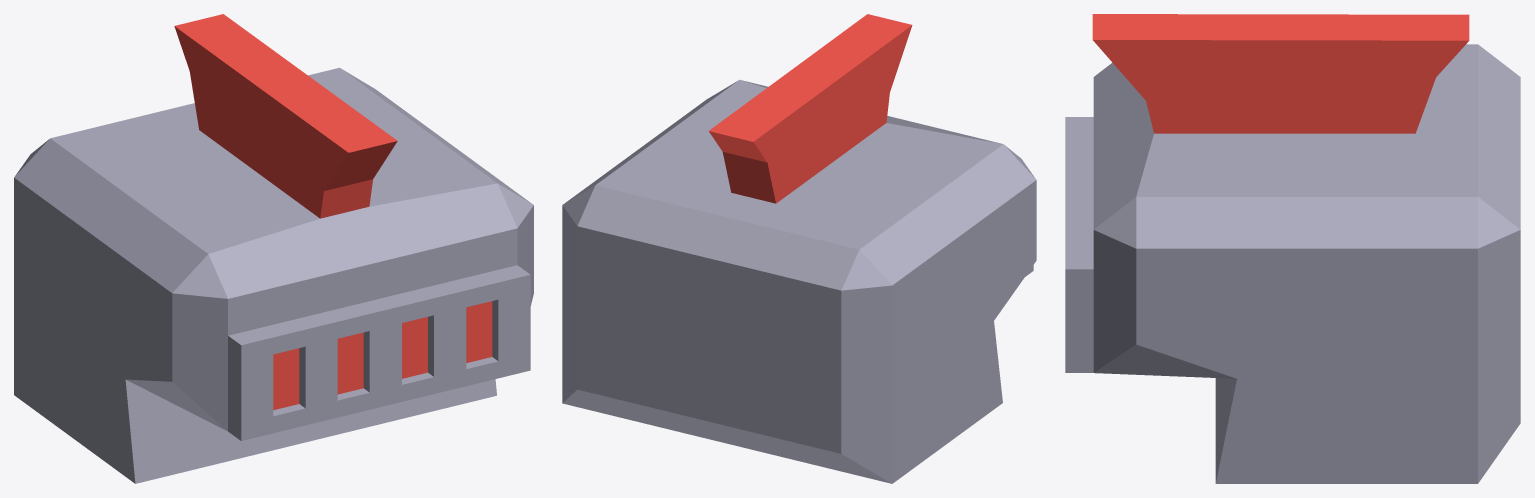
File: human_helmet_1.fbx
The picture shows the model from 3 angles, left to right: view 1: azimuth 30°, elevation 25°; view 2: azimuth 150°, elevation 25°; view 3: azimuth 270°, elevation 25°; orthographic projection. The views are drawn at different scales.
Parts seen in each view (by area): view 1: helmet; view 2: helmet; view 3: helmet.
Part boxes in pixels (x1,y1,x2,y2): helmet: (14,14,533,483); helmet: (562,14,1036,483); helmet: (1065,14,1520,483).
Size of the model in its own units: 239 by 211 by 241.
